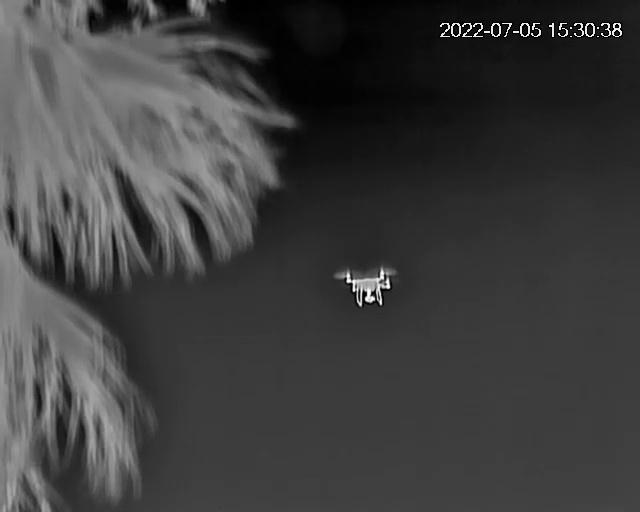DJI-Phantom: (328, 264, 405, 307)
